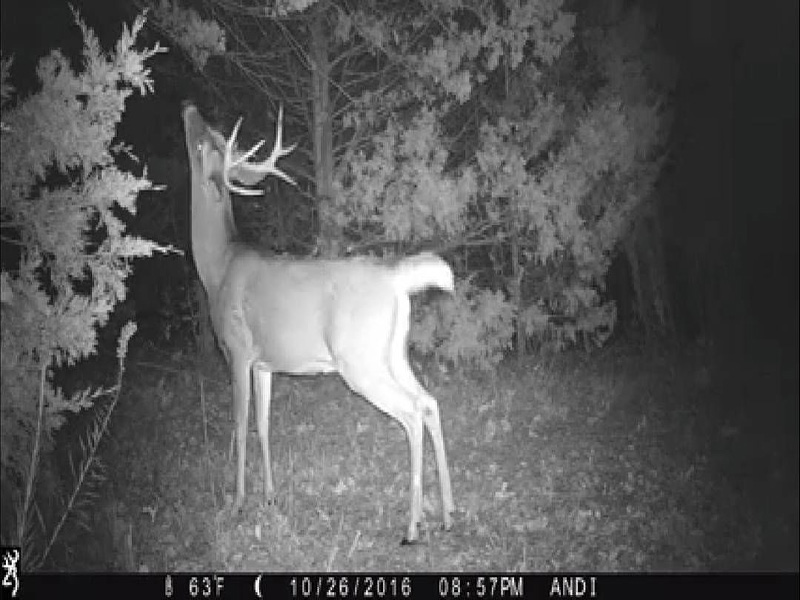cervo: (180, 97, 471, 546)
